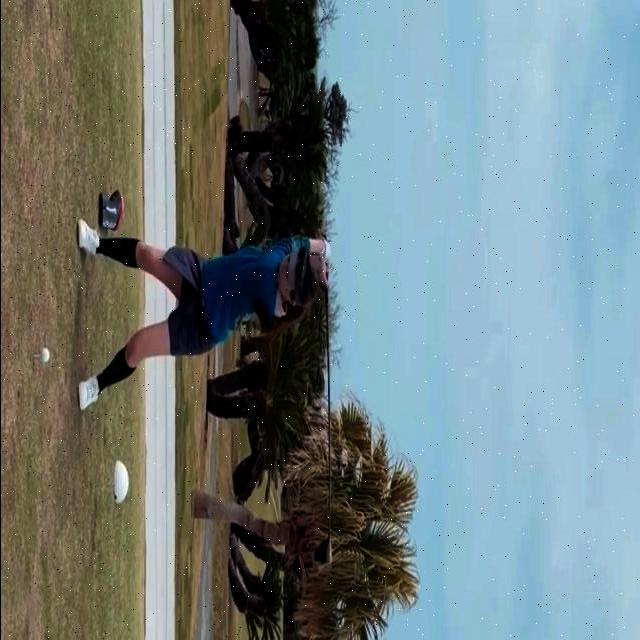ClubHandle: (313, 234, 331, 564)
ClubHead: (313, 540, 331, 565)
GolfBall: (41, 348, 48, 362)
